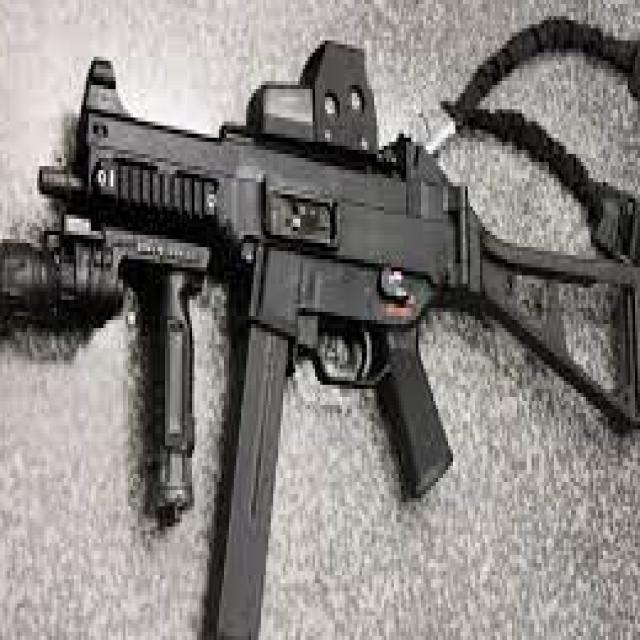Gun: (40, 40, 640, 640)
